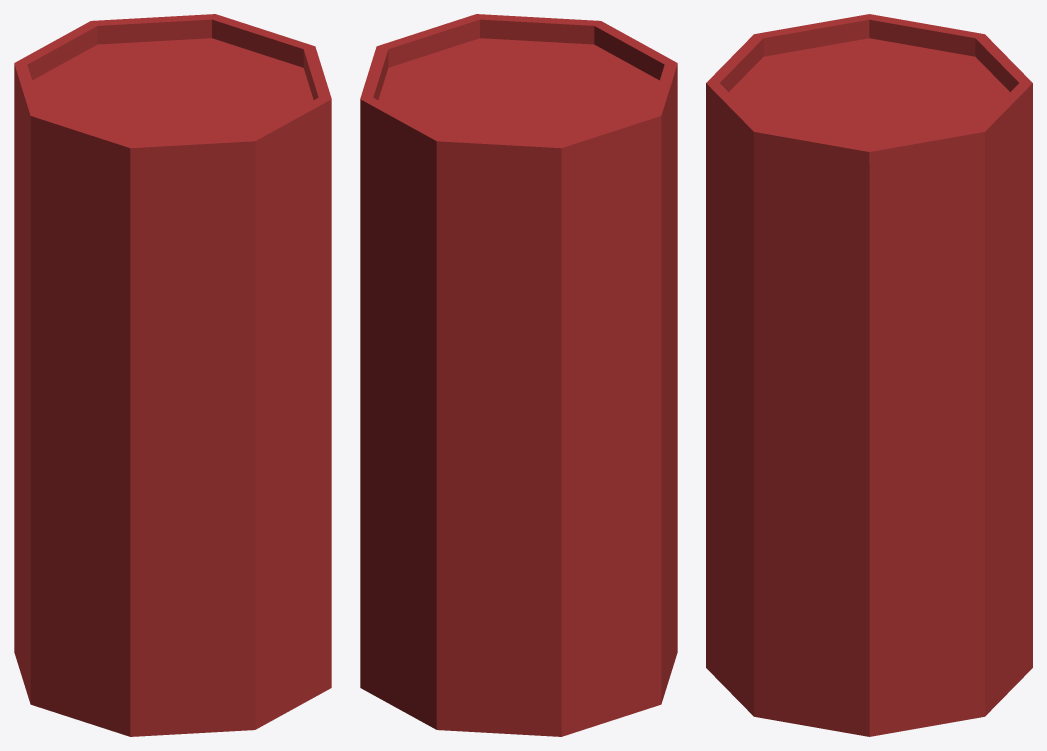
Rendered from SM_can_01.fbx.
3 views of the same model, side by side, from view 1: azimuth 30°, elevation 25°; view 2: azimuth 150°, elevation 25°; view 3: azimuth 270°, elevation 25° (orthographic).
Visible parts, largest first — view 1: Cylinder031; view 2: Cylinder031; view 3: Cylinder031.
Boxes of the visible parts, <box> form: Cylinder031: <box>14,14,331,736</box>; Cylinder031: <box>360,14,677,736</box>; Cylinder031: <box>706,14,1032,736</box>.
Size of the model in its own units: 4.44 by 4.44 by 8.78.
